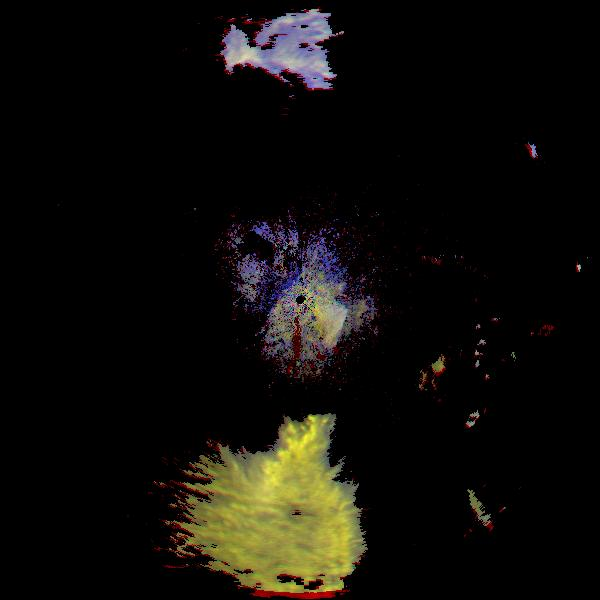roost: (214, 280, 367, 433), (407, 343, 524, 460)
